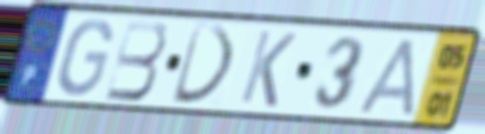3: (313, 34, 366, 112)
A: (355, 35, 419, 119)
B: (102, 18, 169, 104)
D: (168, 21, 239, 107)
G: (55, 17, 116, 99)
K: (236, 27, 300, 111)
